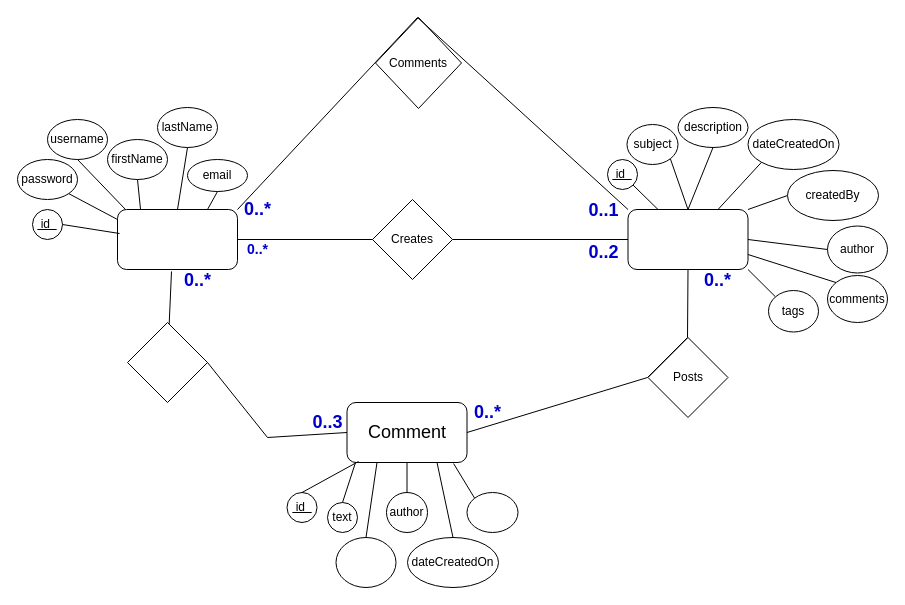
Image size: 905x605. Some labels were removed from this diagram. Each missing label, with the centre of its shape:
Post / Blog: (x=687, y=239)
post_id: (x=492, y=512)
sentiment: (x=365, y=562)
Users: (x=177, y=239)
Writes: (x=167, y=362)
